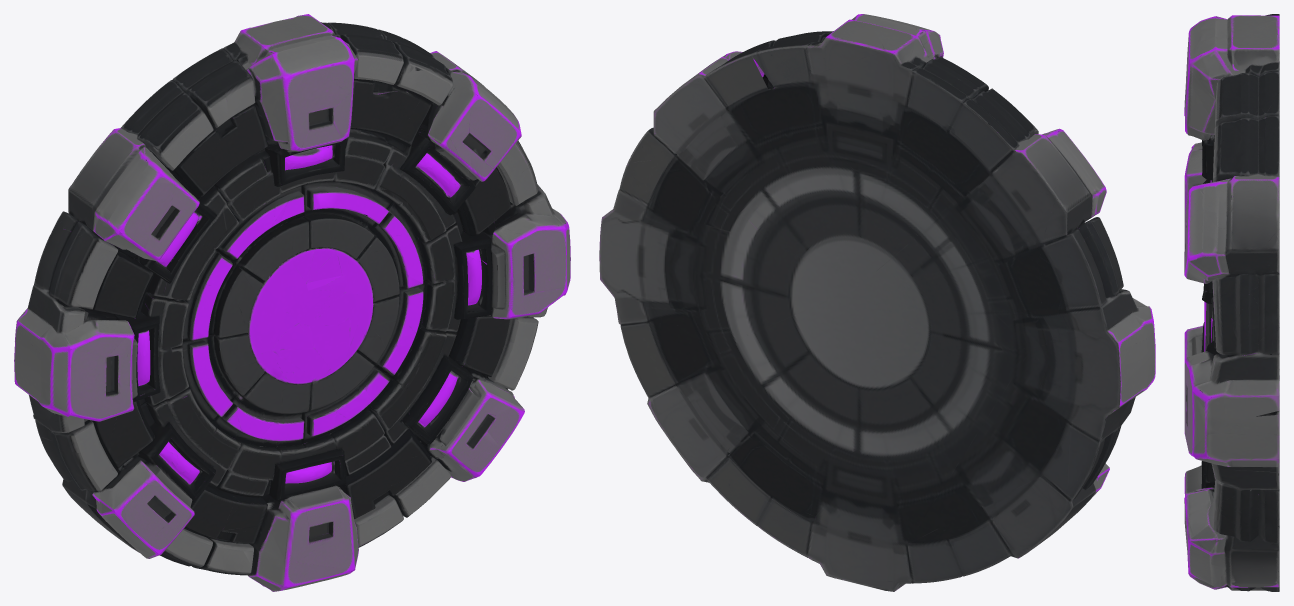
The model's file is weapon_spawn_pad.glb.
3 renders of one model, left to right at view 1: azimuth 30°, elevation 25°; view 2: azimuth 150°, elevation 25°; view 3: azimuth 270°, elevation 25°, orthographic.
Parts seen in each view (by area): view 1: output_unwrapped; view 2: output_unwrapped; view 3: output_unwrapped.
Boxes of the visible parts, <box> form: output_unwrapped: <box>14,14,570,591</box>; output_unwrapped: <box>599,14,1155,591</box>; output_unwrapped: <box>1184,14,1279,591</box>.
Bounding box in the file's own units: 1.9 × 1.89 × 0.2995.
Materials: 1 (1 with a texture image).
